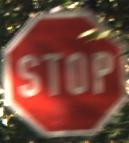Stop sign: (0, 0, 128, 142)
